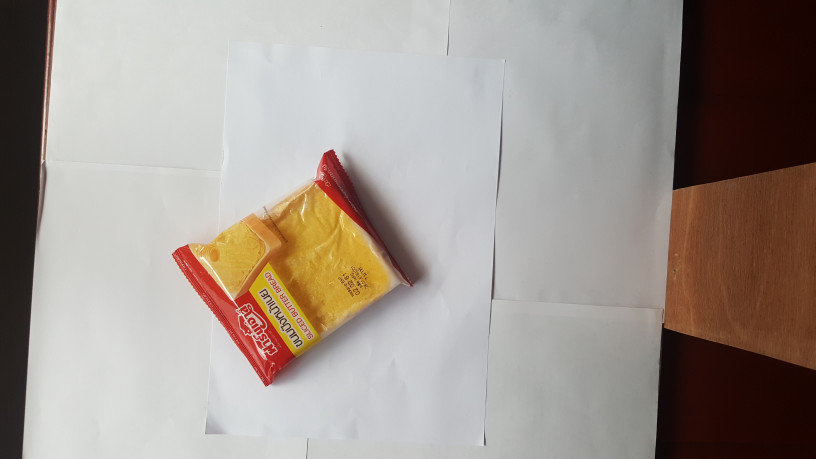farmhouse-bread-butter: (163, 144, 415, 395)
